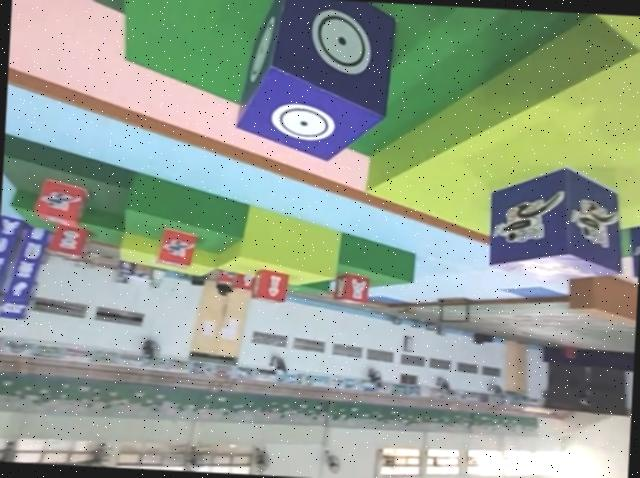R1 Blue: (489, 161, 629, 281)
R2 Real Blue: (233, 0, 392, 163)
